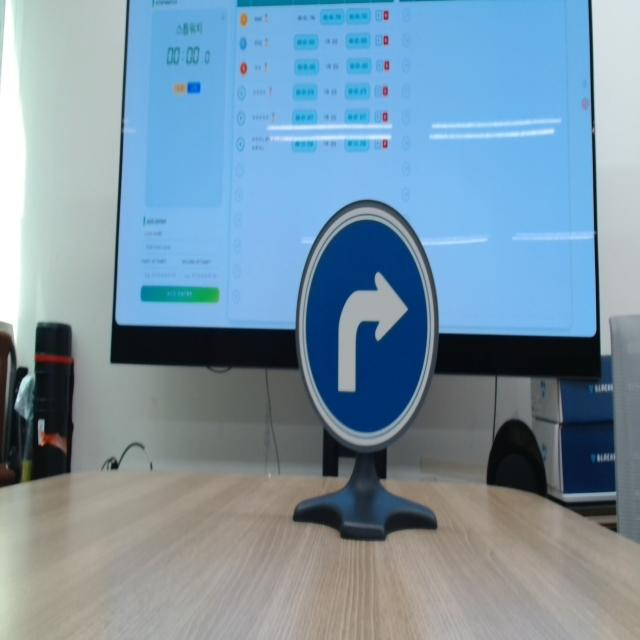right_dierection: (290, 167, 455, 472)
